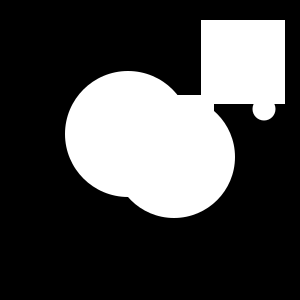circle: (201, 20, 285, 104), (157, 95, 214, 152)
rectangle: (65, 71, 191, 197), (113, 96, 235, 218), (252, 98, 276, 120)
